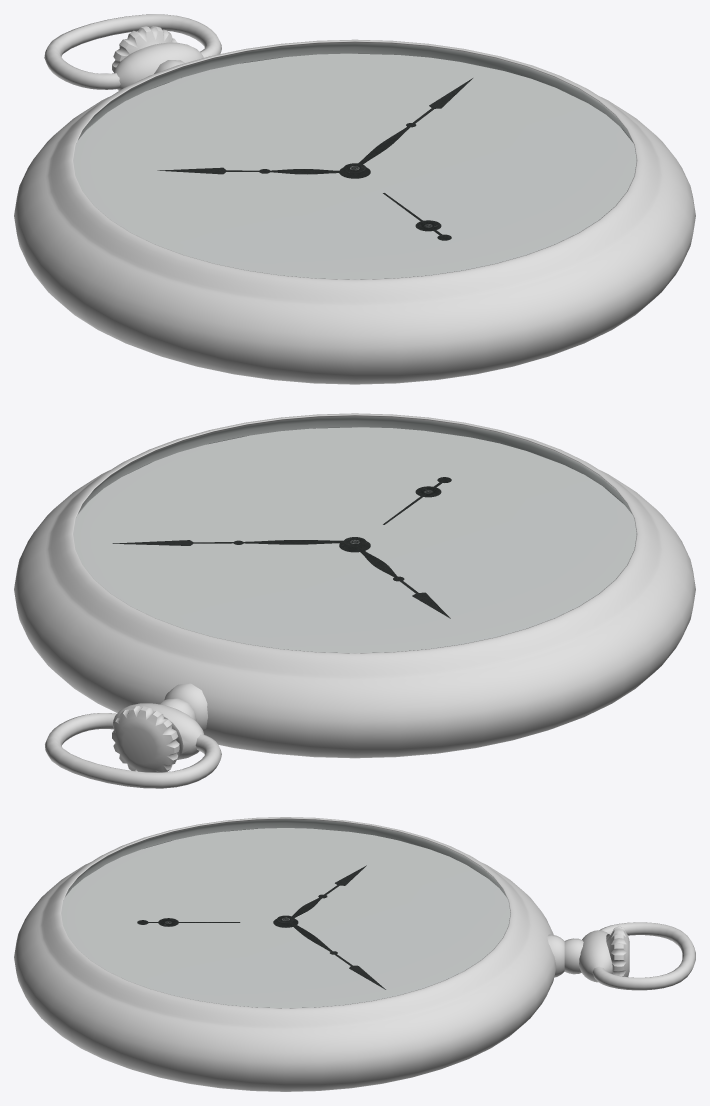
Rendered from Watch.FBX.
The picture shows the model from 3 angles, top to bottom: view 1: azimuth 30°, elevation 25°; view 2: azimuth 150°, elevation 25°; view 3: azimuth 270°, elevation 25°; orthographic projection. The views are drawn at different scales.
Visible parts, largest first — view 1: Dial, Watch, Minutes, Hours; view 2: Dial, Watch, Minutes, Hours; view 3: Dial, Watch, Minutes, Hours.
Boxes of the visible parts, x1,y1,x2,y2 form: Dial: (73, 53, 636, 279); Watch: (14, 14, 695, 384); Minutes: (343, 78, 472, 172); Hours: (157, 167, 370, 178); Dial: (73, 427, 636, 653); Watch: (14, 413, 695, 788); Minutes: (112, 537, 366, 546); Hours: (339, 541, 450, 618); Dial: (61, 828, 510, 1008); Watch: (14, 817, 695, 1091); Minutes: (276, 915, 385, 989); Hours: (273, 865, 366, 927).
Bounding box in the file's own units: 800 × 160 × 1003.
